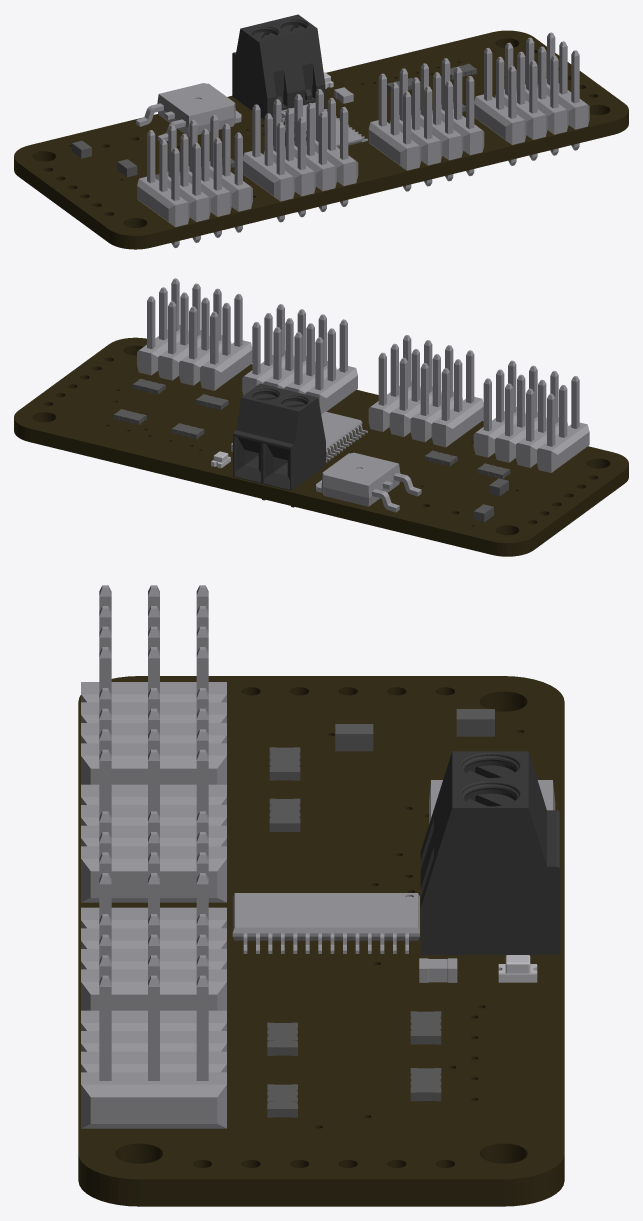
Rendered from adafruit-pca9685.glb.
3 views of the same model, one above another, from view 1: azimuth 30°, elevation 25°; view 2: azimuth 150°, elevation 25°; view 3: azimuth 270°, elevation 25° (orthographic). The views are drawn at different scales.
Parts seen in each view (by area): view 1: adafruit-pca9685; view 2: adafruit-pca9685; view 3: adafruit-pca9685.
Part boxes in pixels (x1,y1,x2,y2): adafruit-pca9685: [14, 14, 628, 249]; adafruit-pca9685: [14, 278, 628, 556]; adafruit-pca9685: [78, 585, 564, 1206].
Size of the model in its own units: 62.23 by 12.1 by 25.4.
